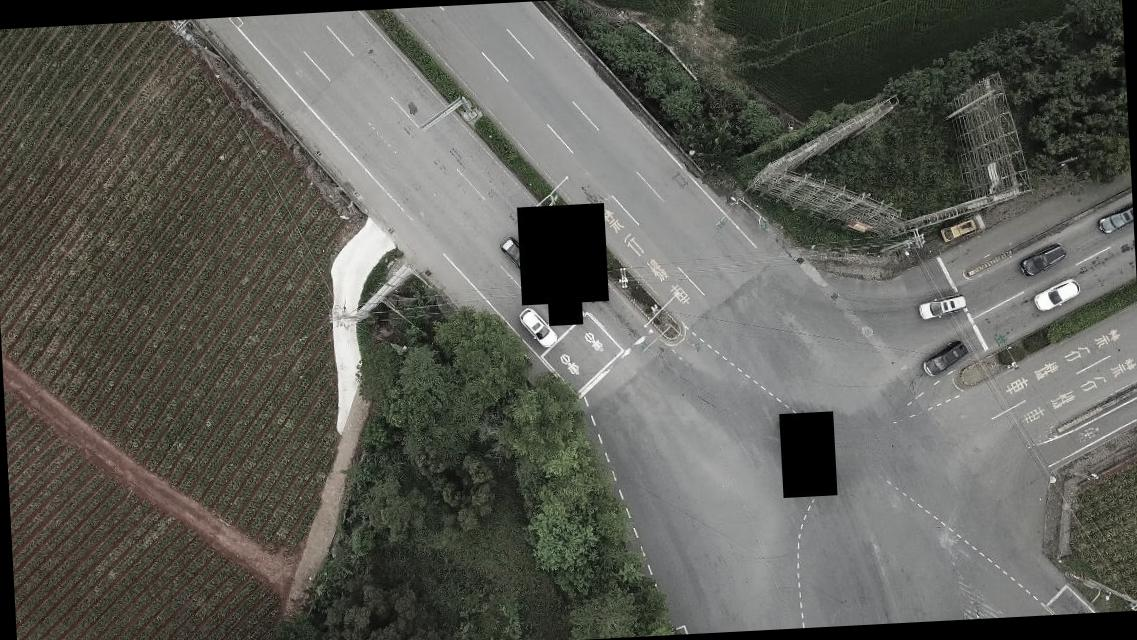vehicle: (518, 304, 556, 350), (497, 234, 538, 276)
